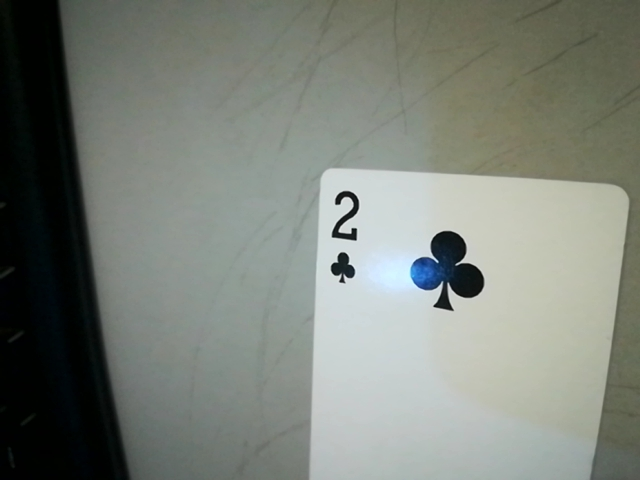mh 2: (313, 180, 371, 292)
